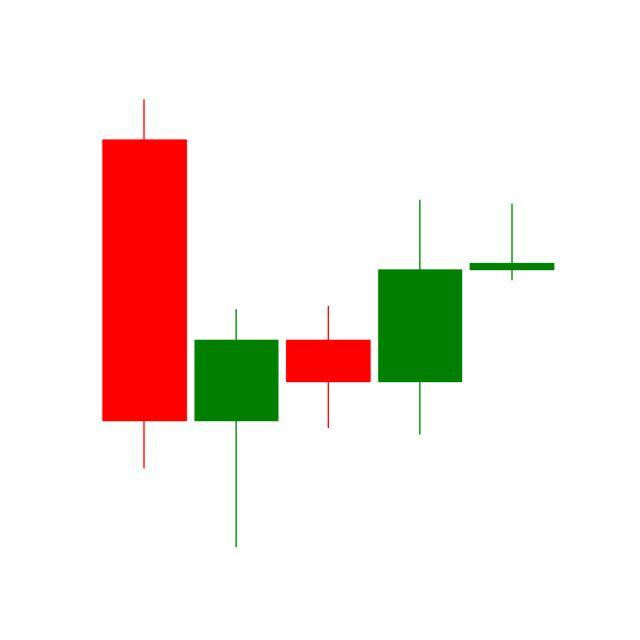Gravestone Doji: (466, 202, 559, 282)
